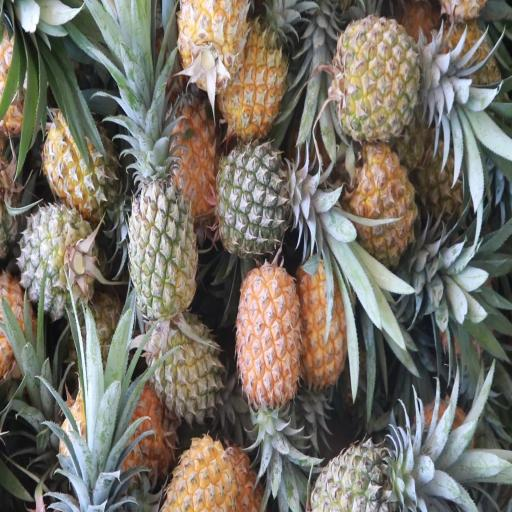------------------------------: (127, 146, 194, 311), (331, 16, 423, 135), (150, 313, 222, 416), (45, 103, 114, 208)
Pineapple - v8 v1: (236, 263, 302, 404), (346, 146, 416, 261), (161, 86, 223, 212), (226, 24, 288, 132), (298, 260, 352, 384), (179, 0, 248, 82), (165, 438, 238, 512)
